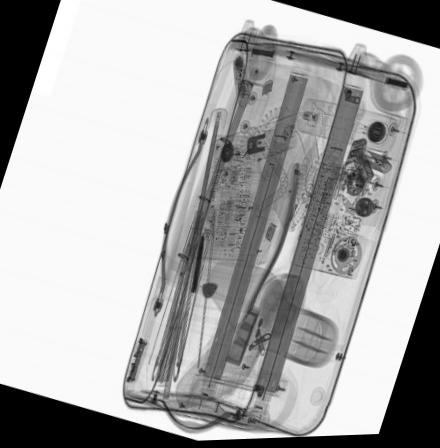Knife: (189, 232, 204, 296)
